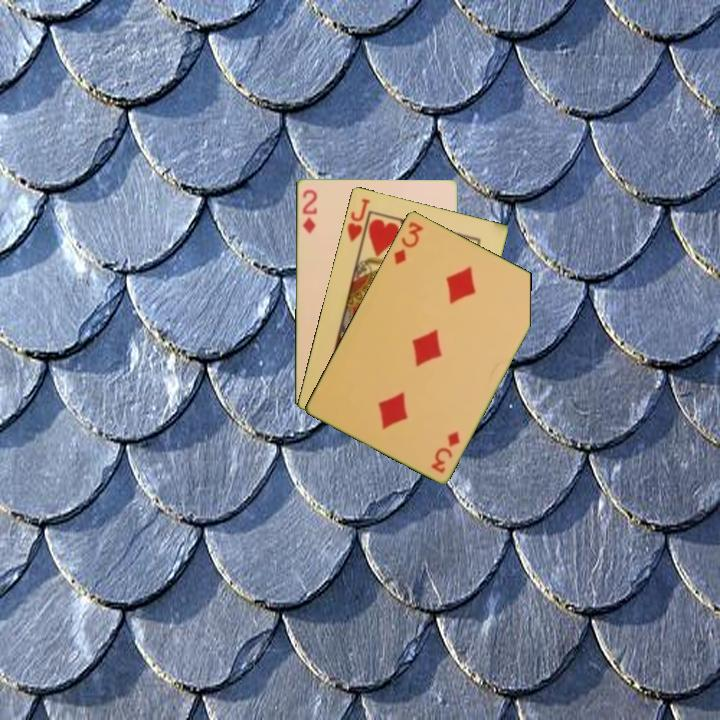2d: (298, 186, 319, 236)
3d: (390, 218, 426, 267), (427, 427, 463, 476)
Jh: (343, 194, 373, 251)
